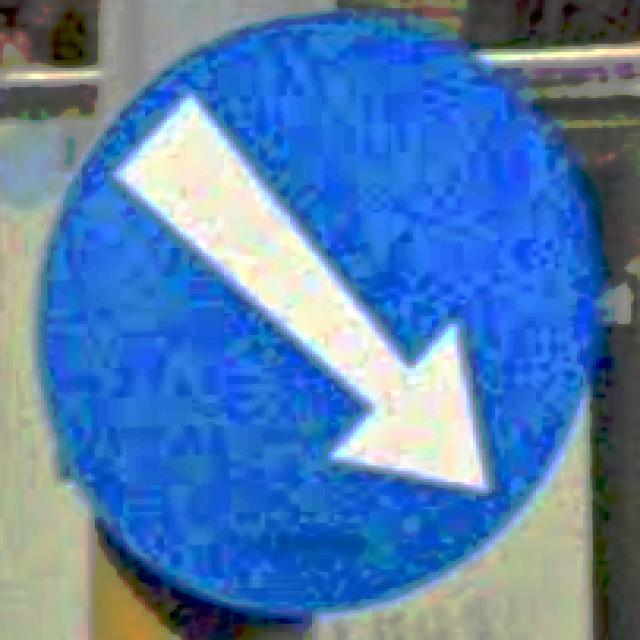thisway: (28, 6, 612, 624)
